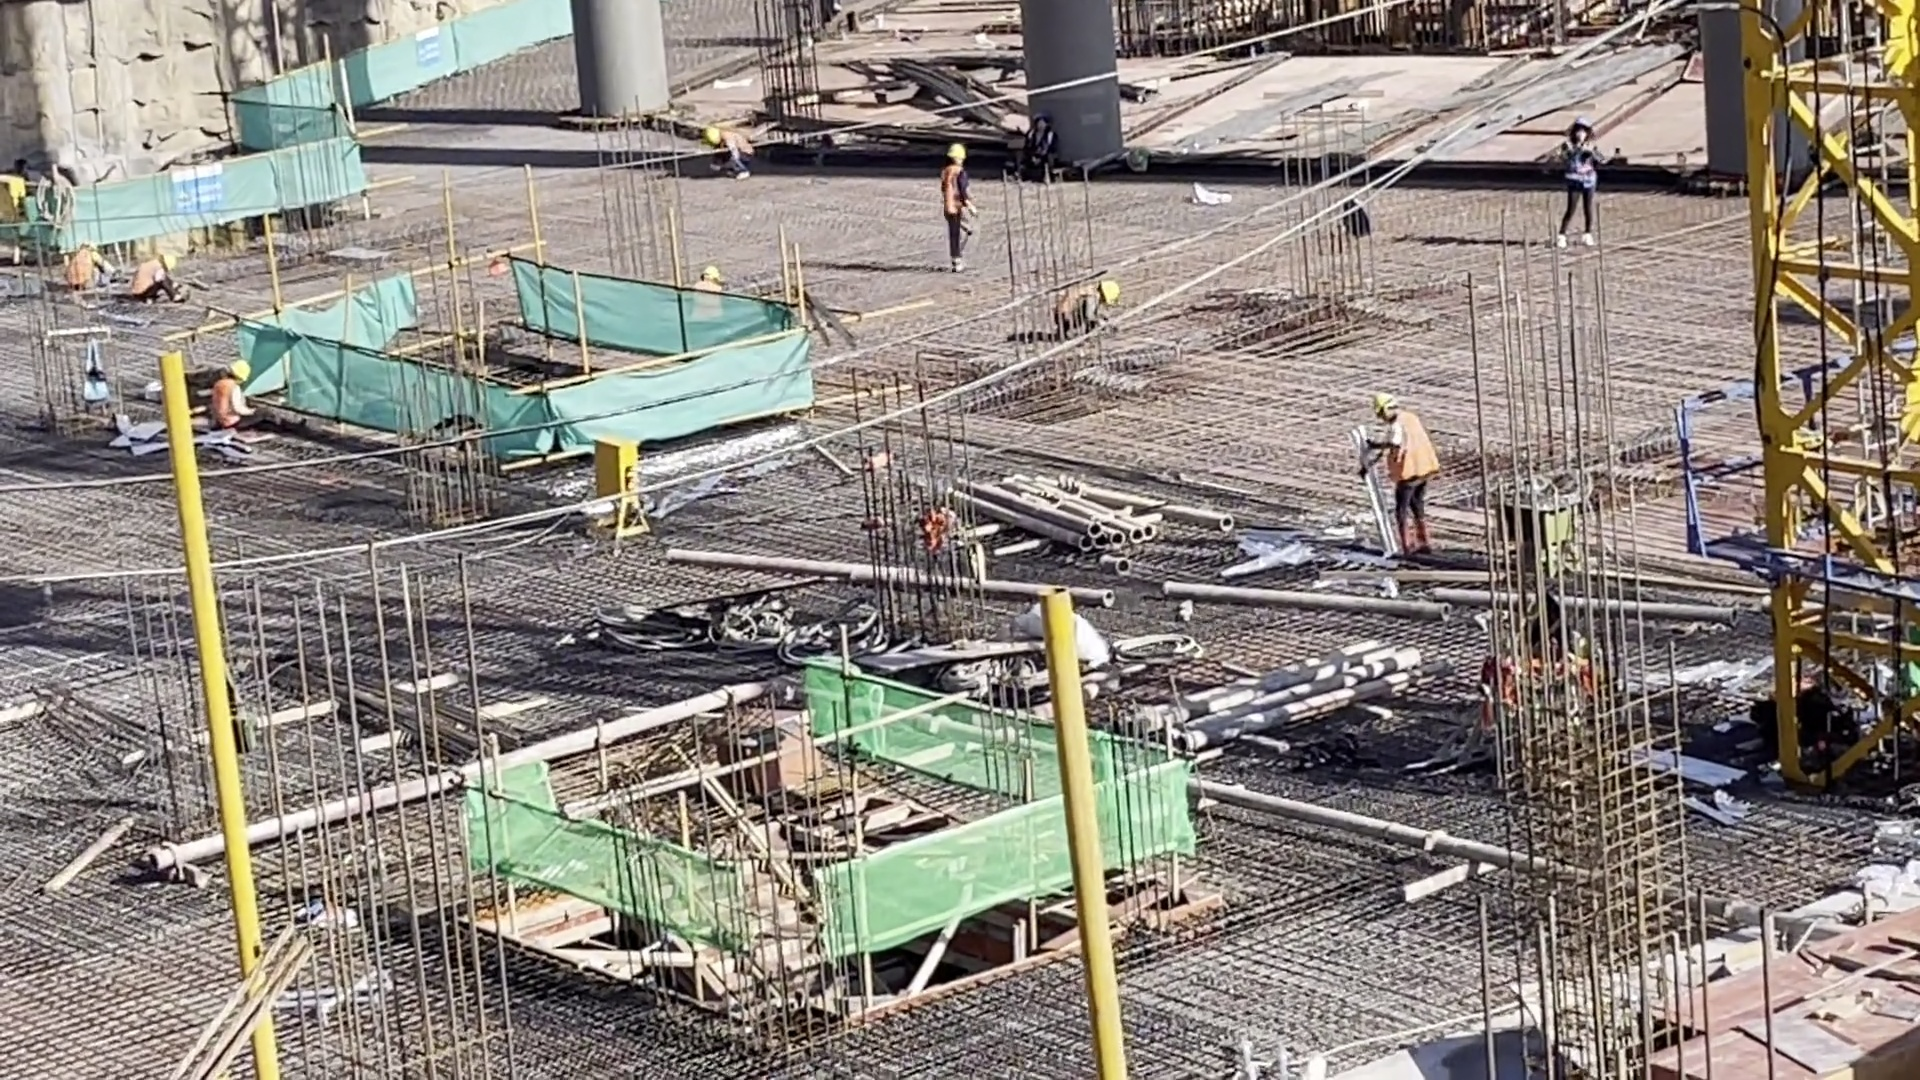helmet: (703, 124, 724, 158), (1100, 280, 1121, 304), (1373, 392, 1393, 412), (233, 358, 252, 378), (943, 146, 962, 163), (160, 255, 179, 270), (76, 242, 96, 254), (702, 266, 719, 277)
person: (1360, 391, 1440, 561), (1555, 120, 1603, 253), (936, 141, 982, 279), (1055, 278, 1122, 339), (62, 239, 130, 294), (208, 363, 256, 439), (700, 122, 759, 180), (686, 268, 734, 332), (130, 254, 191, 305), (1017, 116, 1060, 174)
vest: (1388, 414, 1440, 482), (936, 166, 975, 219), (1057, 286, 1095, 325), (1562, 140, 1593, 186), (209, 377, 240, 421), (63, 253, 95, 290), (133, 261, 161, 298), (695, 282, 720, 319), (721, 134, 752, 159)
